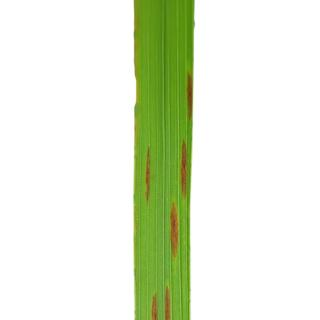Bercak-Cokelat-Sempit: (171, 136, 193, 203), (136, 146, 154, 212), (146, 283, 178, 320), (168, 203, 184, 264), (185, 68, 196, 126)
